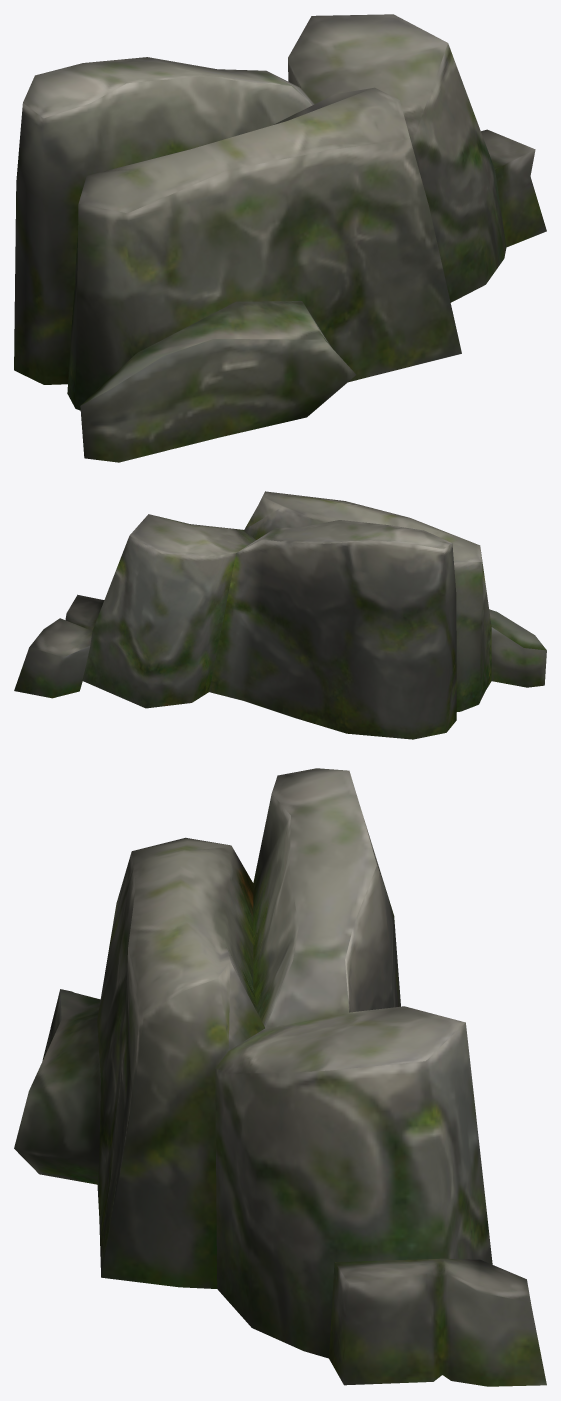
File: Stage_CaoYuan_HeShi01.FBX
The picture shows the model from 3 angles, top to bottom: view 1: azimuth 30°, elevation 25°; view 2: azimuth 150°, elevation 25°; view 3: azimuth 270°, elevation 25°; orthographic projection. The views are drawn at different scales.
Parts seen in each view (by area): view 1: Stage_CaoYuan_HeShi01; view 2: Stage_CaoYuan_HeShi01; view 3: Stage_CaoYuan_HeShi01.
Part boxes in pixels (x1,y1,x2,y2): Stage_CaoYuan_HeShi01: [14, 14, 546, 462]; Stage_CaoYuan_HeShi01: [14, 491, 546, 739]; Stage_CaoYuan_HeShi01: [14, 768, 546, 1386].
Size of the model in its own units: 557 by 253 by 376.
